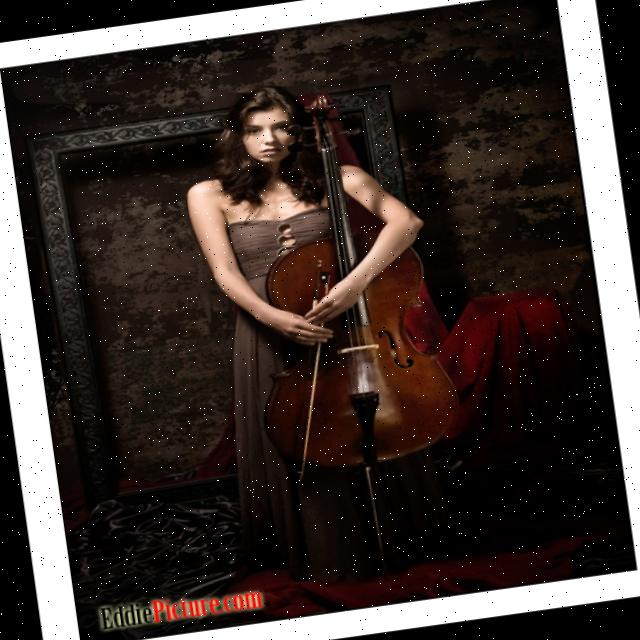cello: (214, 80, 469, 483)
